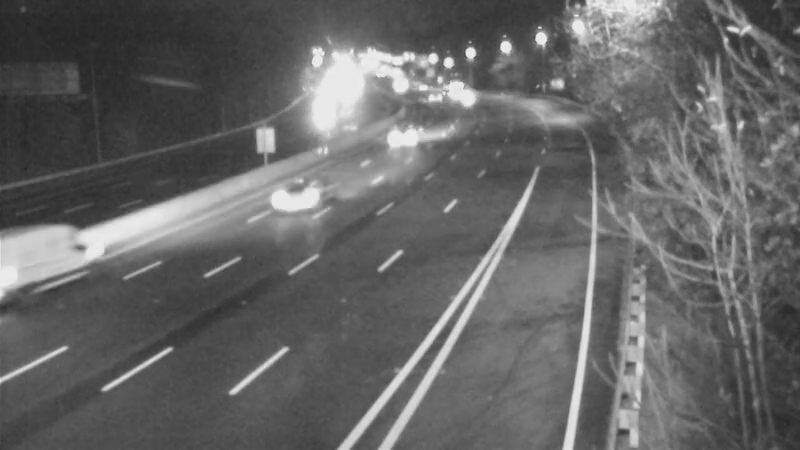vehicle: (262, 157, 342, 237), (1, 227, 73, 307), (405, 69, 455, 119), (379, 107, 429, 157), (295, 91, 345, 141)
